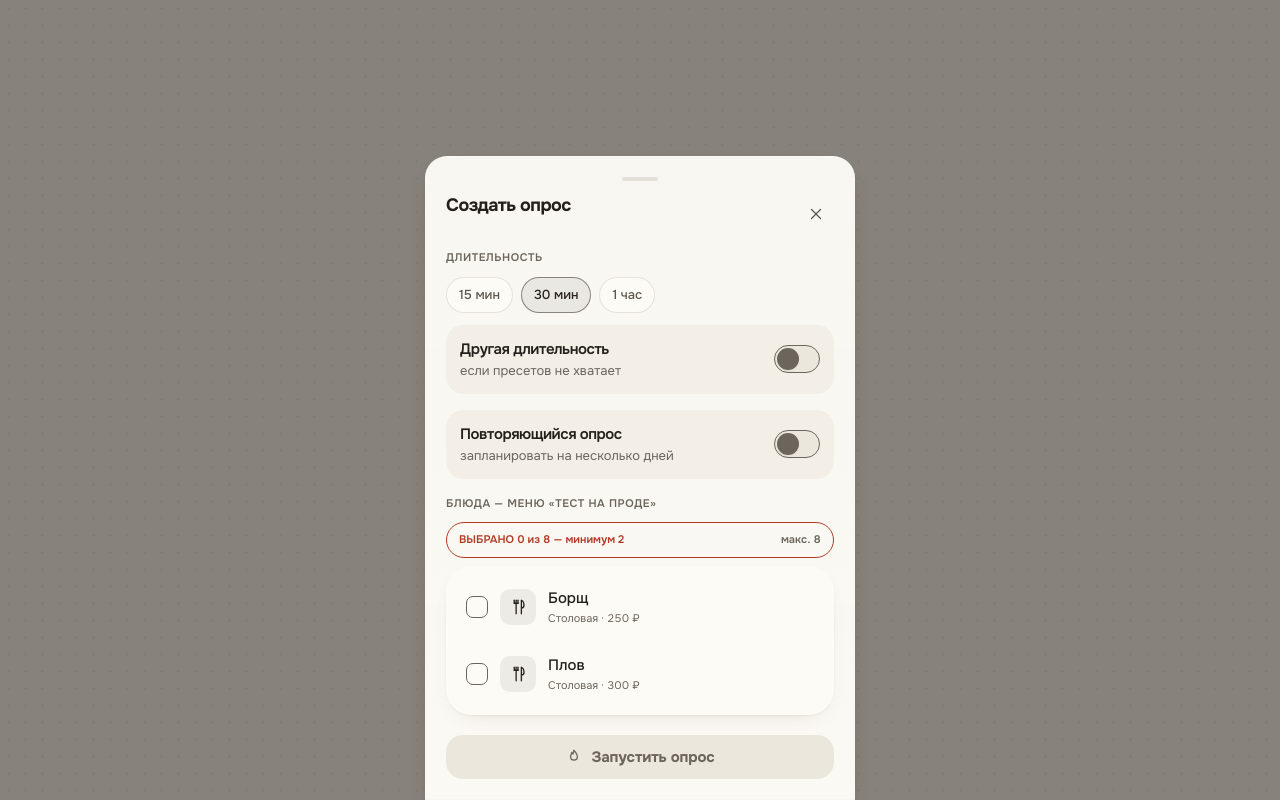
it: CreatePollSheet — расписания нет › переключатель ведёт к созданию, кнопка меняет смысл
This screenshot has width=1280, height=800.
expect the button "Запустить опрос" is shown: met, box [446,735,834,779]
Click the switch named "Повторяющийся опрос". click: click(797, 444)
box: [774,430,820,458]
(page scrolled)
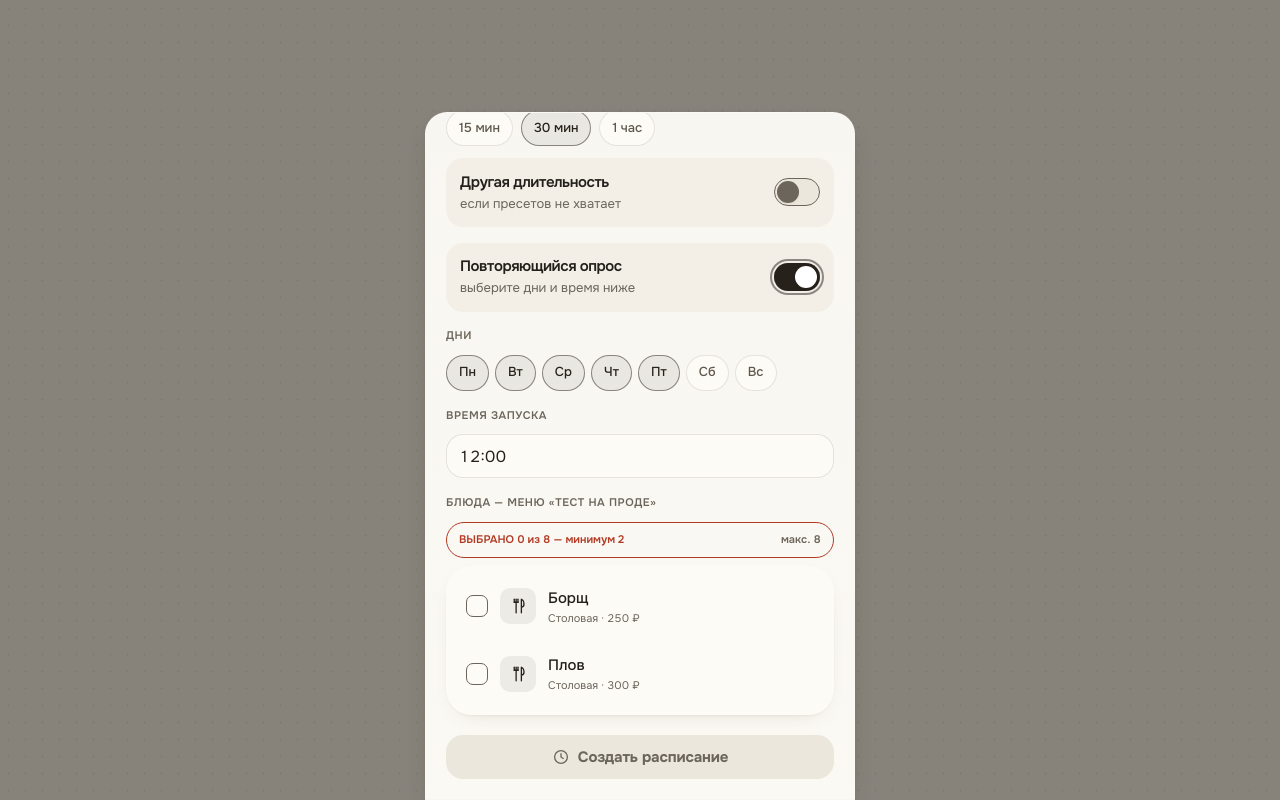
expect the button "Создать расписание" is shown: met, box [446,735,834,779]
